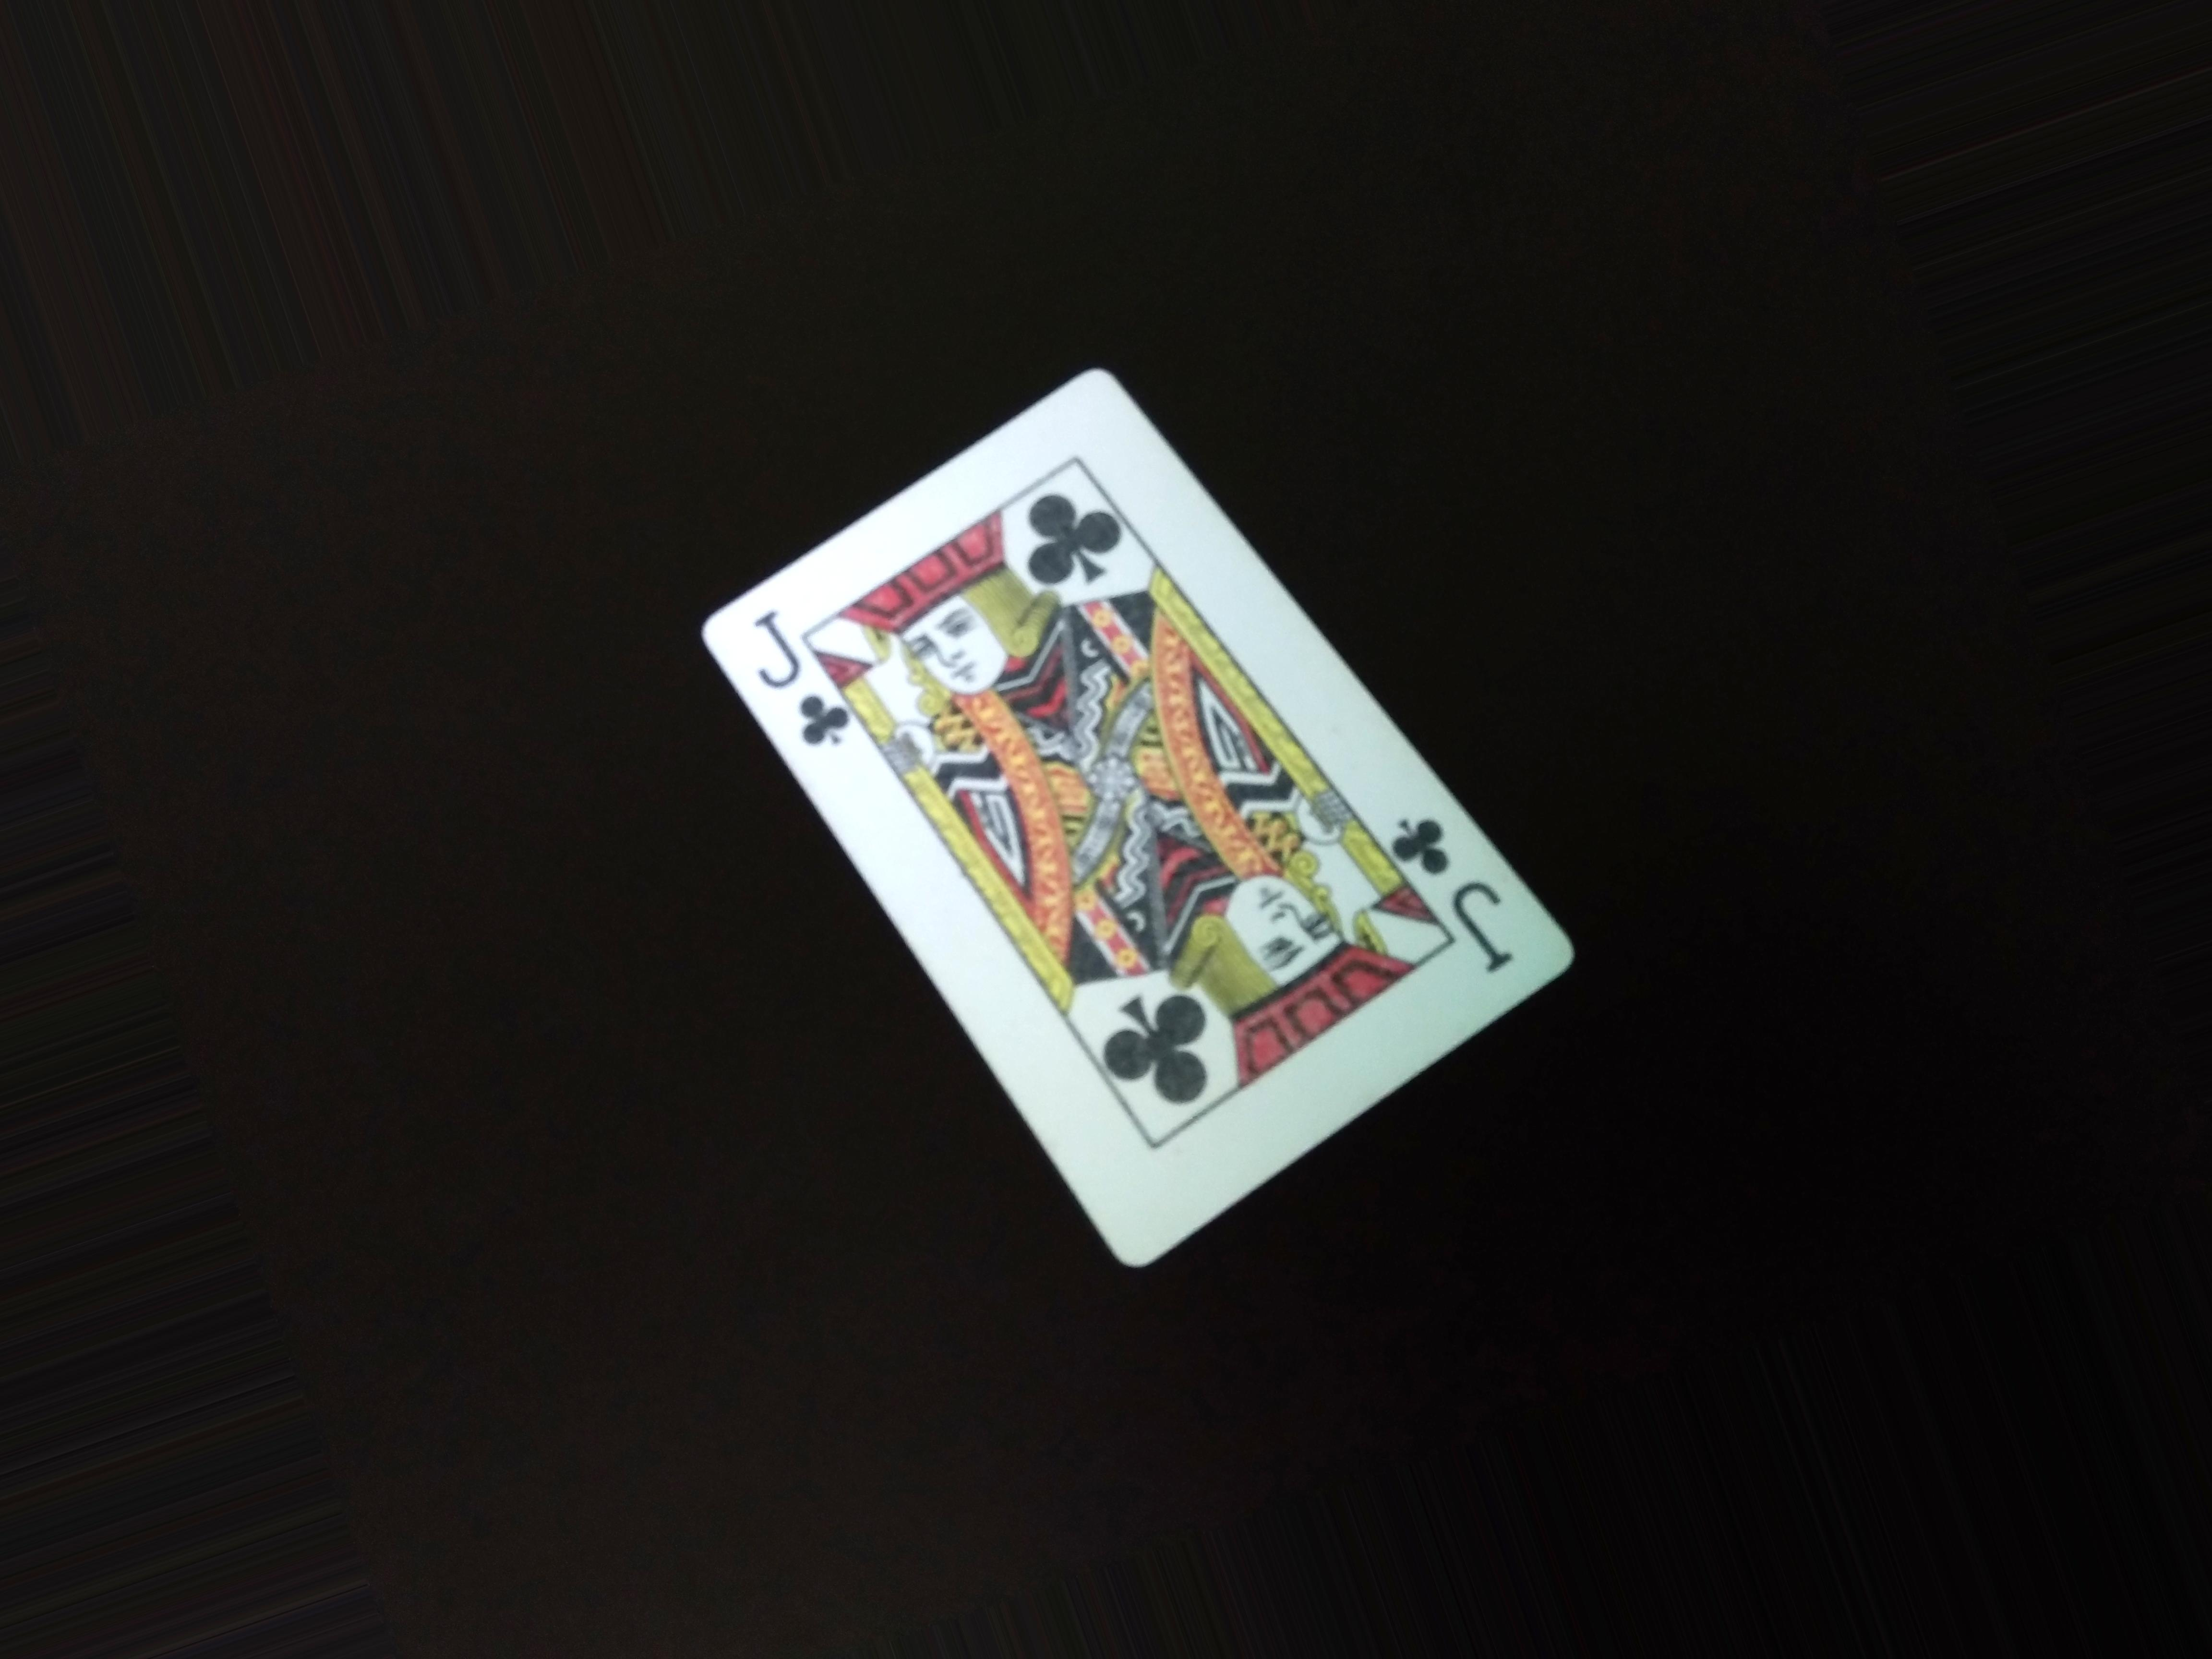JC: (749, 606, 848, 777)
